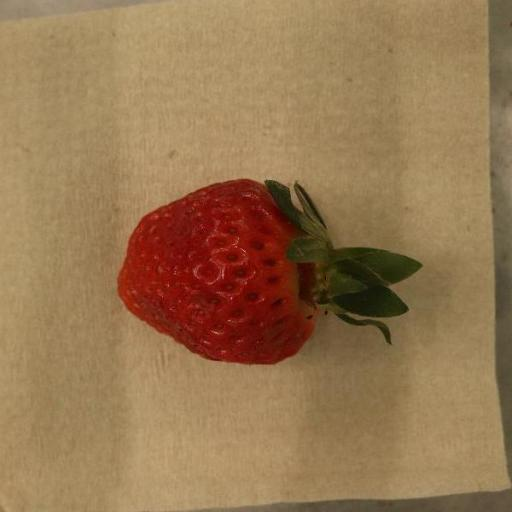Strawberry: (118, 179, 424, 366)
